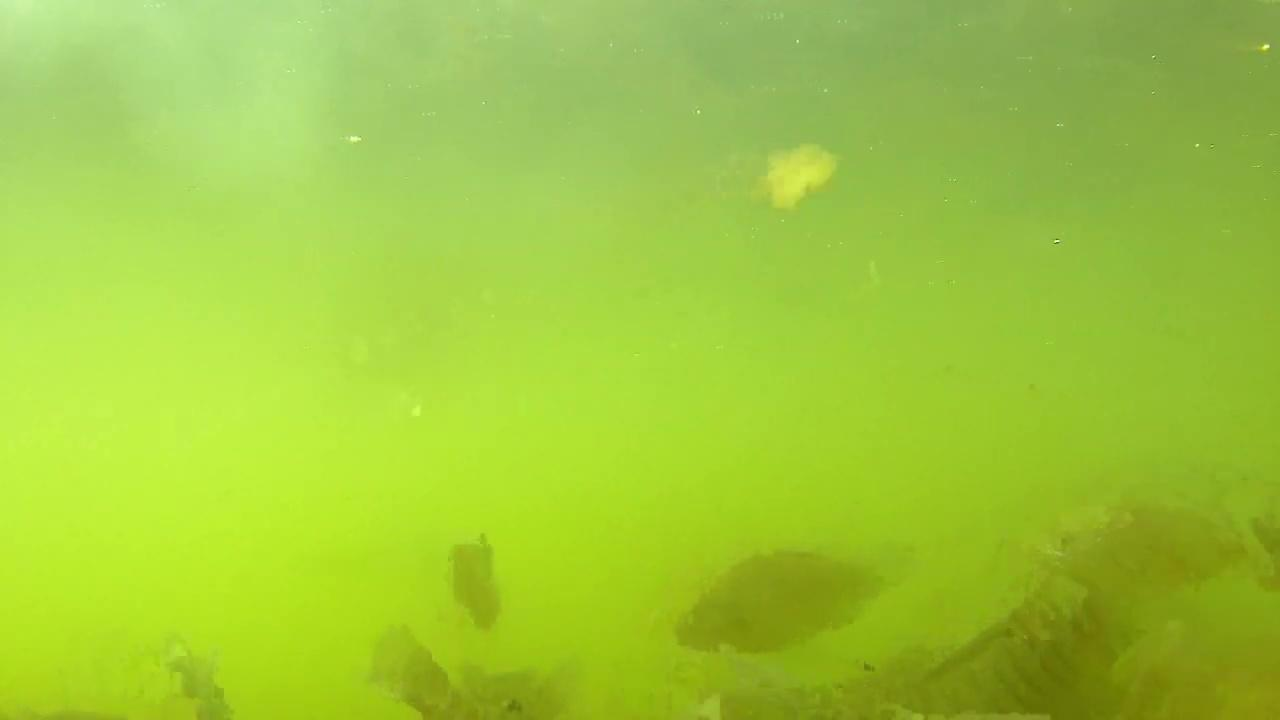Tilapia: (673, 540, 896, 662)
